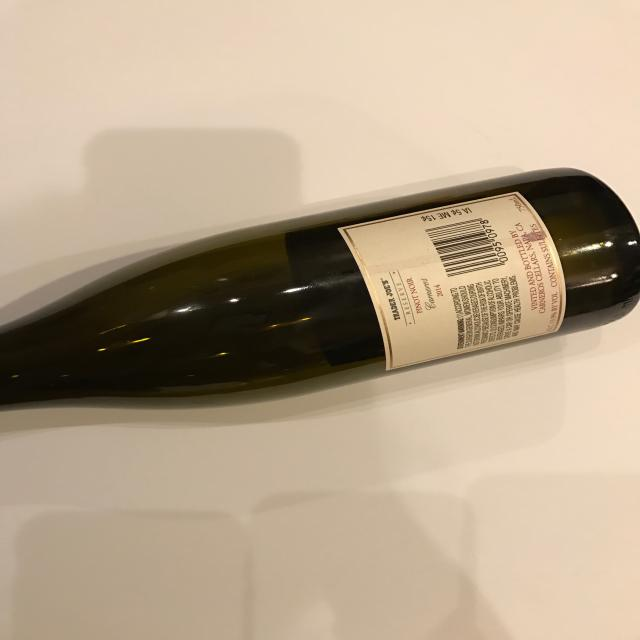glass: (1, 165, 639, 407)
